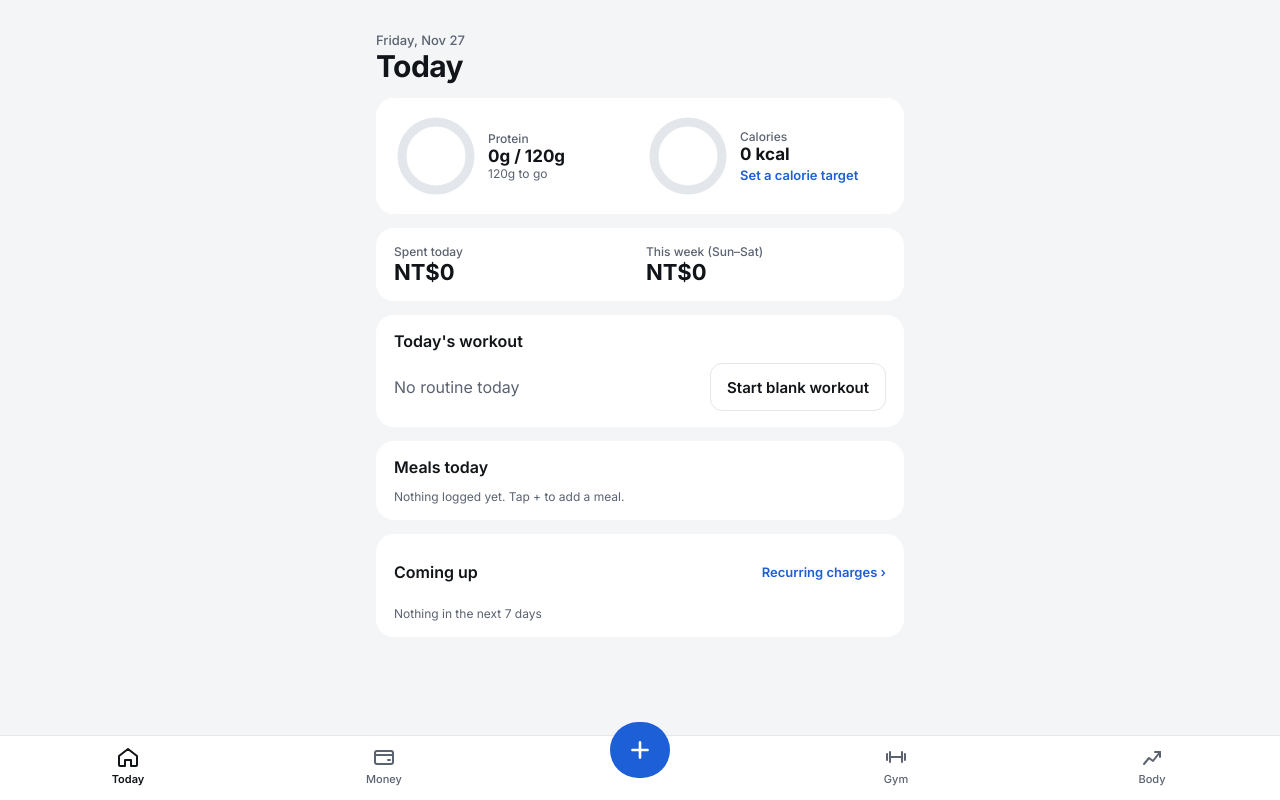
Test: after opening Pull and leaving it untouched, Start Push opens Push
The image size is (1280, 800).
Click the button "Gym" at (896, 766), box [866,744,926,788]
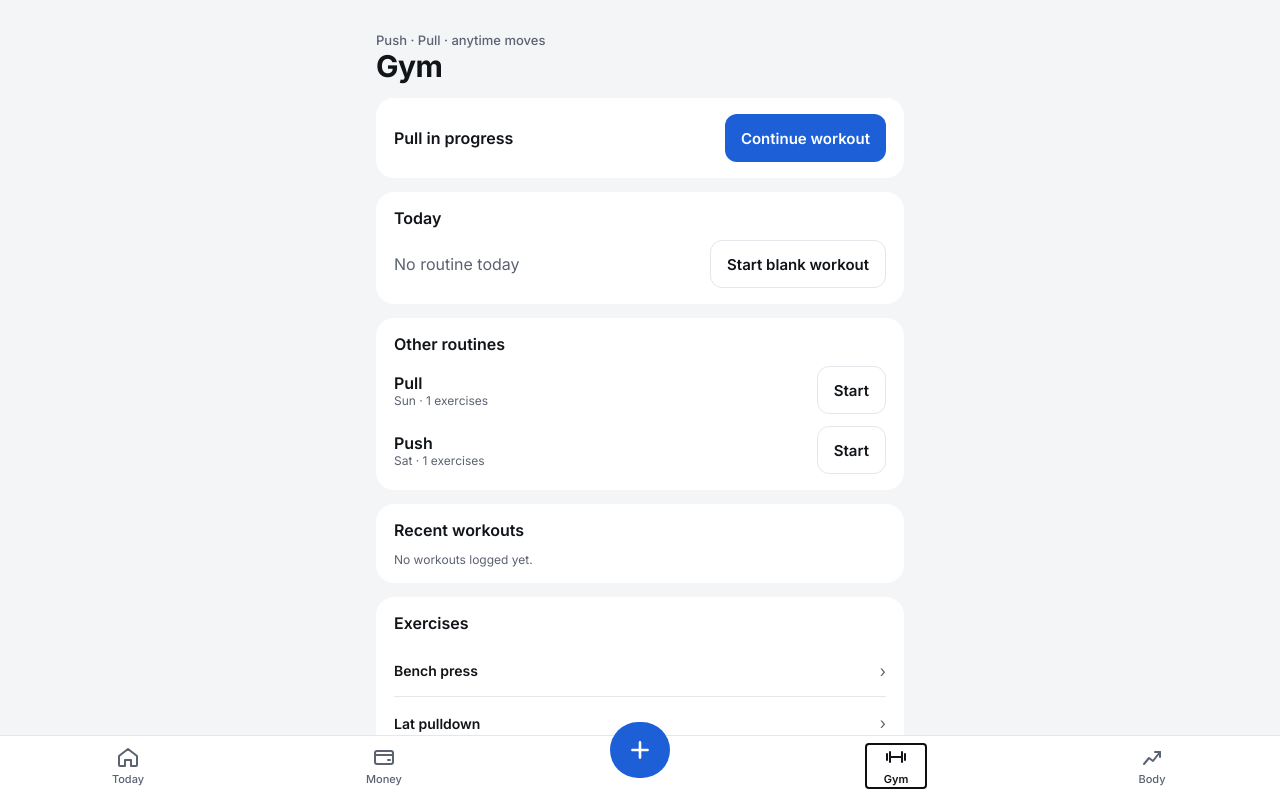
Click the button with aria-label "Start Push" at (851, 450), box [817,426,886,474]
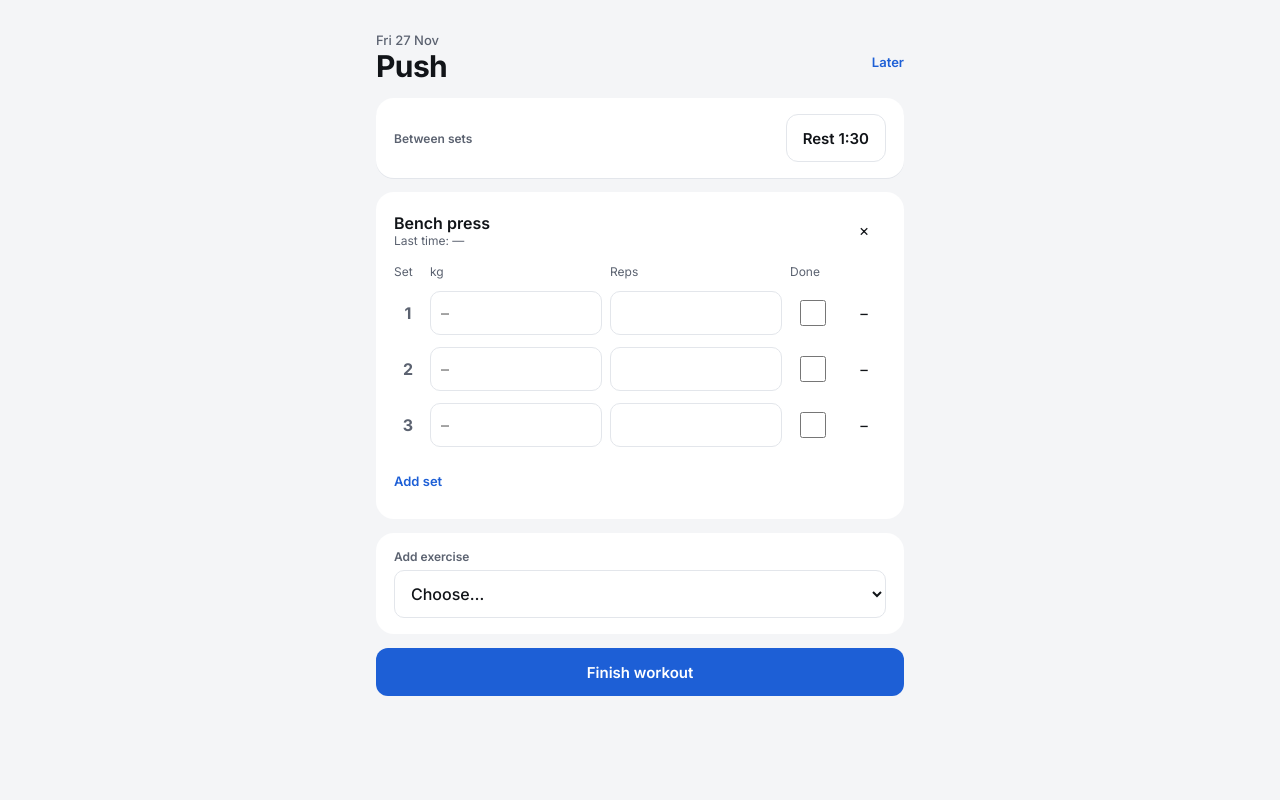
expect the element "Bench press" is shown: met, box [376,192,904,519]
expect the button "Lat pulldown" is gone: met
